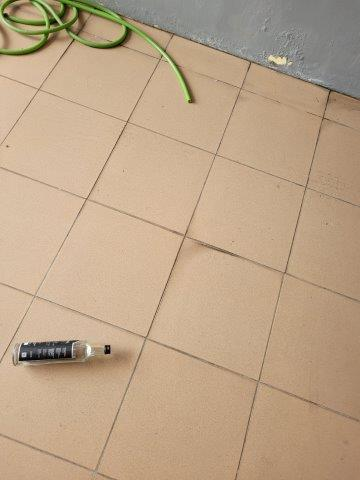botolkaca: (12, 341, 109, 365)
